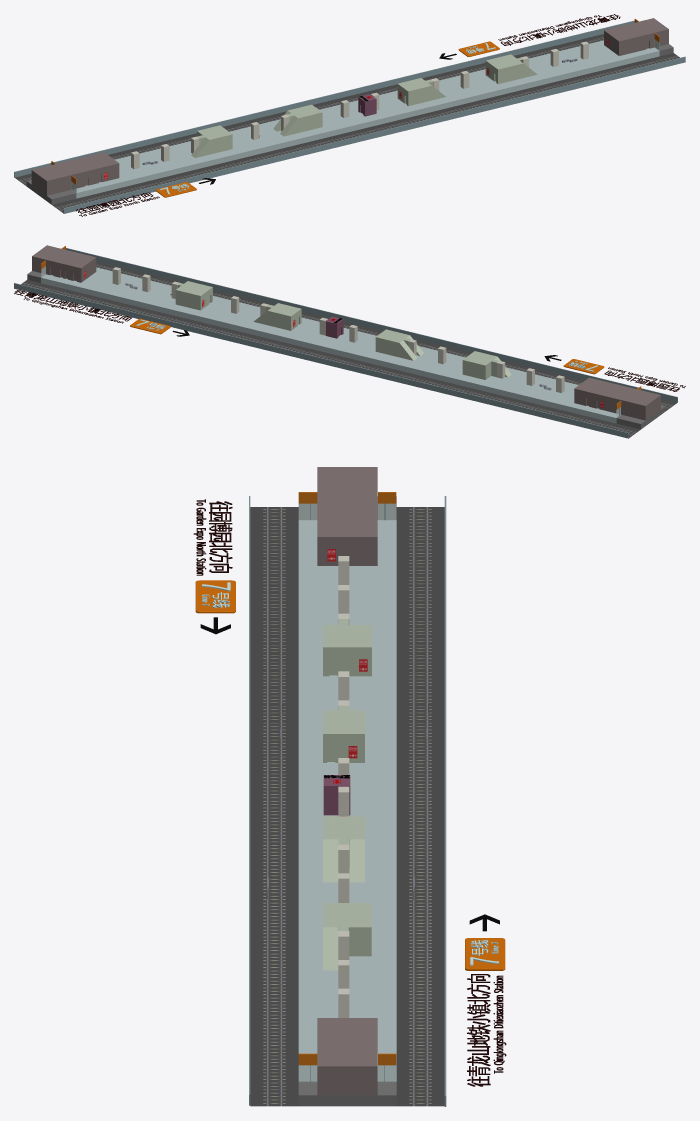
The model's file is psop-whgj-cmt-b2.a4eb76b.glb.
3 views of the same model, one above another, from view 1: azimuth 30°, elevation 25°; view 2: azimuth 150°, elevation 25°; view 3: azimuth 270°, elevation 25° (orthographic). The views are drawn at different scales.
Parts seen in each view (by area): view 1: road-b2-2, Object034, Object032, Object063, Object001, Object021, road-b2-3, Text002, Text006, Box185, Plane071, Plane073; view 2: road-b2-2, Object034, Object032, Object063, Object001, Object021, road-b2-3, Text002, Text006, Box185, Plane073, Plane071; view 3: Object032, road-b2-2, Object063, Object001, Object021, Object034, road-b2-3, Text002, Plane073, Text006, Plane071.
Part boxes in pixels (bbox=[...]): road-b2-2: bbox=[72, 40, 659, 198]; Object034: bbox=[14, 20, 685, 213]; Object032: bbox=[15, 34, 679, 213]; Object063: bbox=[31, 18, 668, 195]; Object001: bbox=[191, 54, 537, 157]; Object021: bbox=[131, 41, 588, 169]; road-b2-3: bbox=[26, 44, 673, 204]; Text002: bbox=[500, 14, 620, 45]; Text006: bbox=[76, 192, 153, 213]; Box185: bbox=[358, 94, 376, 116]; Plane071: bbox=[458, 41, 499, 56]; Plane073: bbox=[155, 182, 196, 197]; road-b2-2: bbox=[41, 267, 620, 423]; Object034: bbox=[14, 248, 677, 438]; Object032: bbox=[21, 261, 676, 437]; Object063: bbox=[32, 245, 660, 420]; Object001: bbox=[170, 281, 511, 379]; Object021: bbox=[112, 267, 564, 392]; road-b2-3: bbox=[27, 271, 665, 429]; Text002: bbox=[14, 289, 131, 321]; Text006: bbox=[604, 370, 679, 391]; Box185: bbox=[325, 316, 343, 338]; Plane073: bbox=[563, 359, 604, 374]; Plane071: bbox=[130, 318, 170, 334]; Object032: bbox=[250, 507, 444, 1106]; road-b2-2: bbox=[298, 520, 396, 1081]; Object063: bbox=[317, 467, 377, 1095]; Object001: bbox=[323, 619, 371, 970]; Object021: bbox=[338, 556, 349, 1017]; Object034: bbox=[249, 496, 446, 1106]; road-b2-3: bbox=[298, 496, 396, 1106]; Text002: bbox=[467, 974, 490, 1086]; Plane073: bbox=[195, 580, 235, 613]; Text006: bbox=[209, 501, 232, 572]; Plane071: bbox=[465, 938, 505, 970].
Size of the model in its own units: 177 by 5.62 by 38.94.
Materials: 20 (4 with a texture image).
